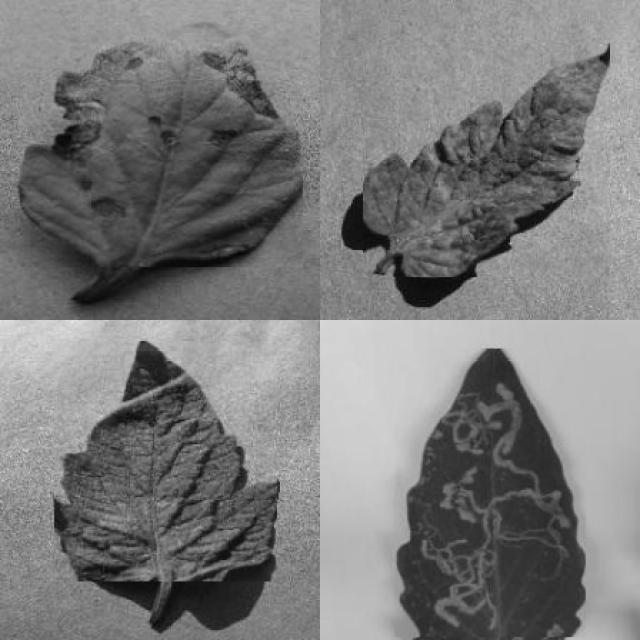Early Blight: (20, 22, 303, 267)
Leaf Miner: (395, 348, 585, 638)
Leaf Mold: (363, 43, 610, 277)
Spider Mites: (54, 338, 277, 582)
